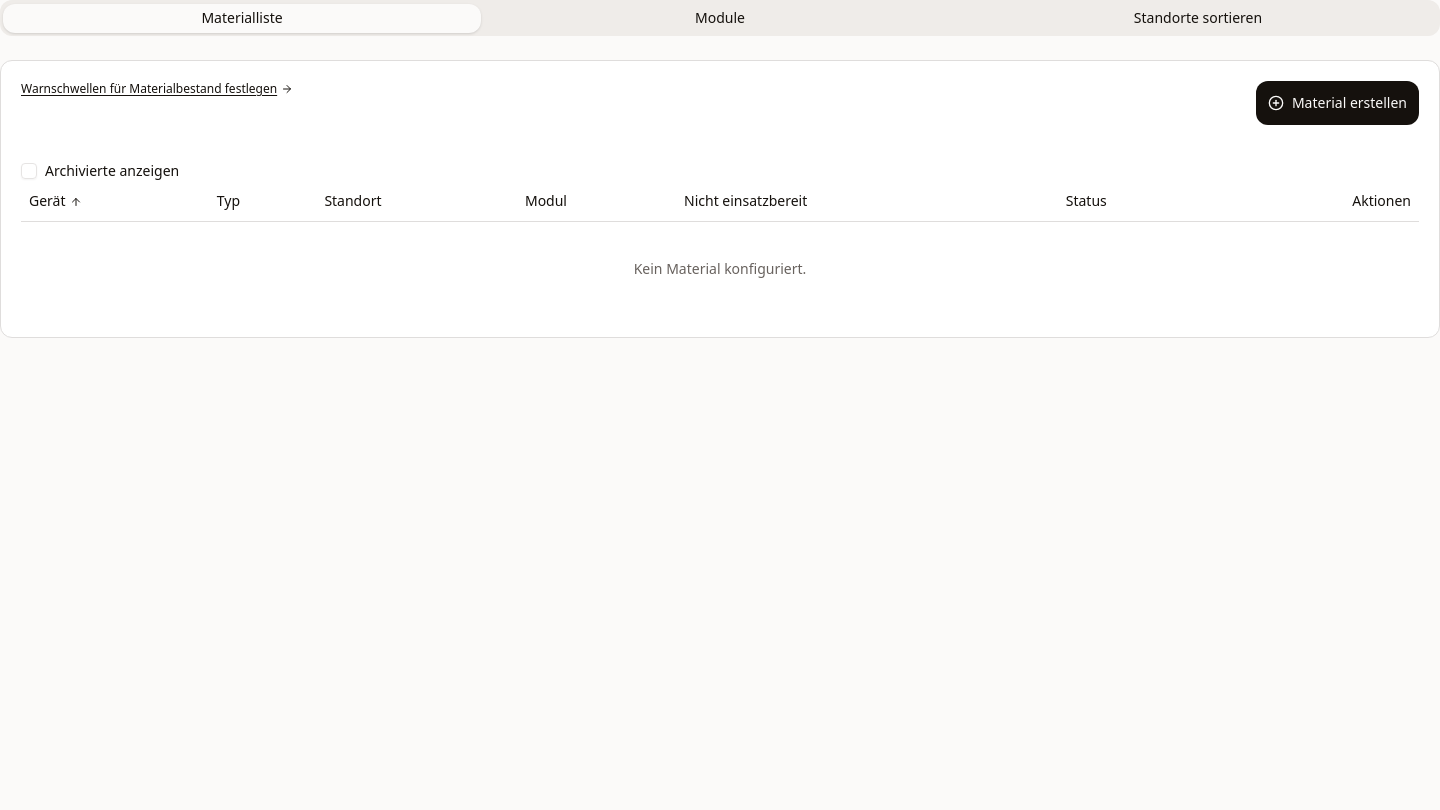
Test: MaterialSettings › warns about unsaved changes when cancelling while dirty
Click the button "Material erstellen" at (1337, 103), box top-left (1256, 81), bottom-right (1419, 125)
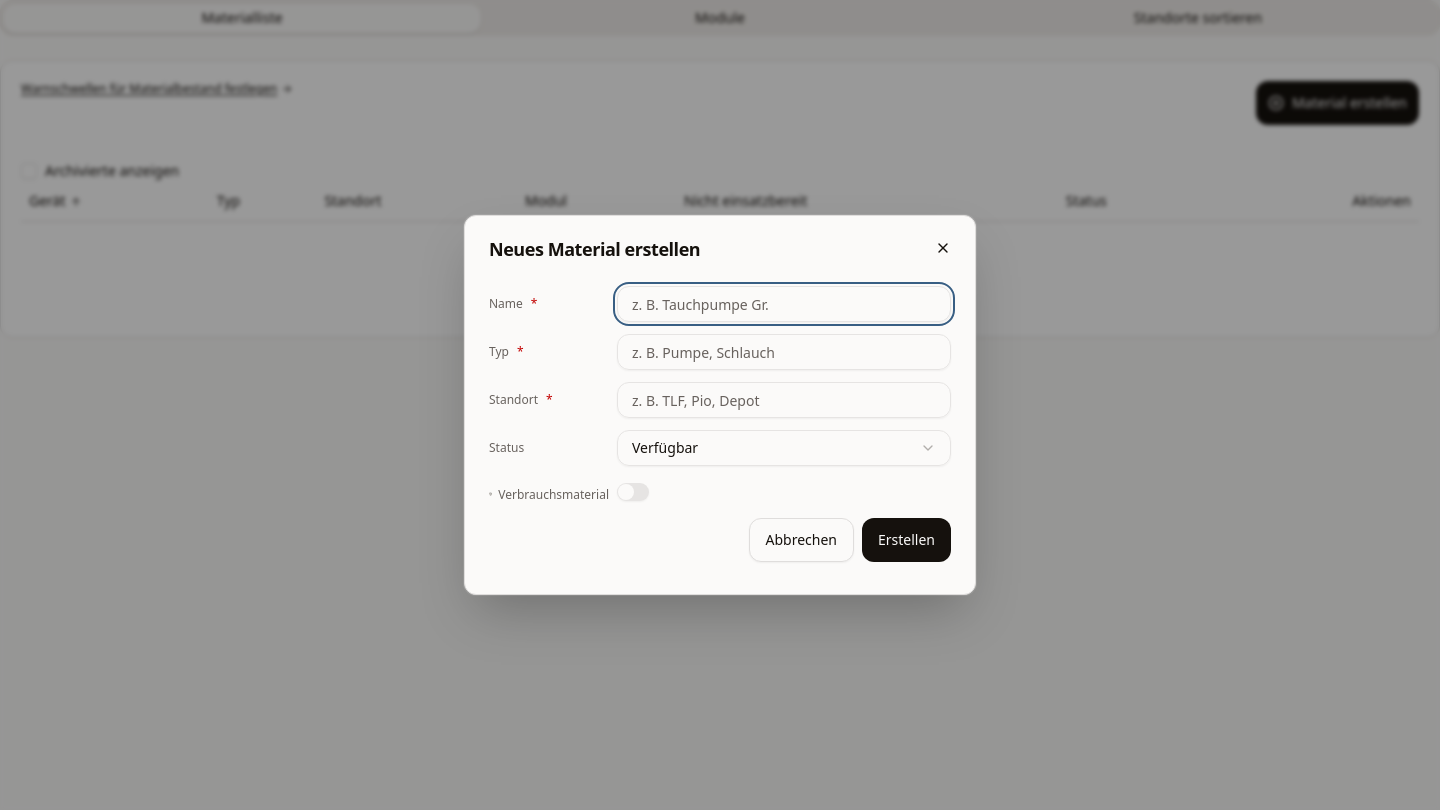
Type "Halffilled" into the field labelled "Name *" at (784, 304), box top-left (617, 286), bottom-right (951, 322)
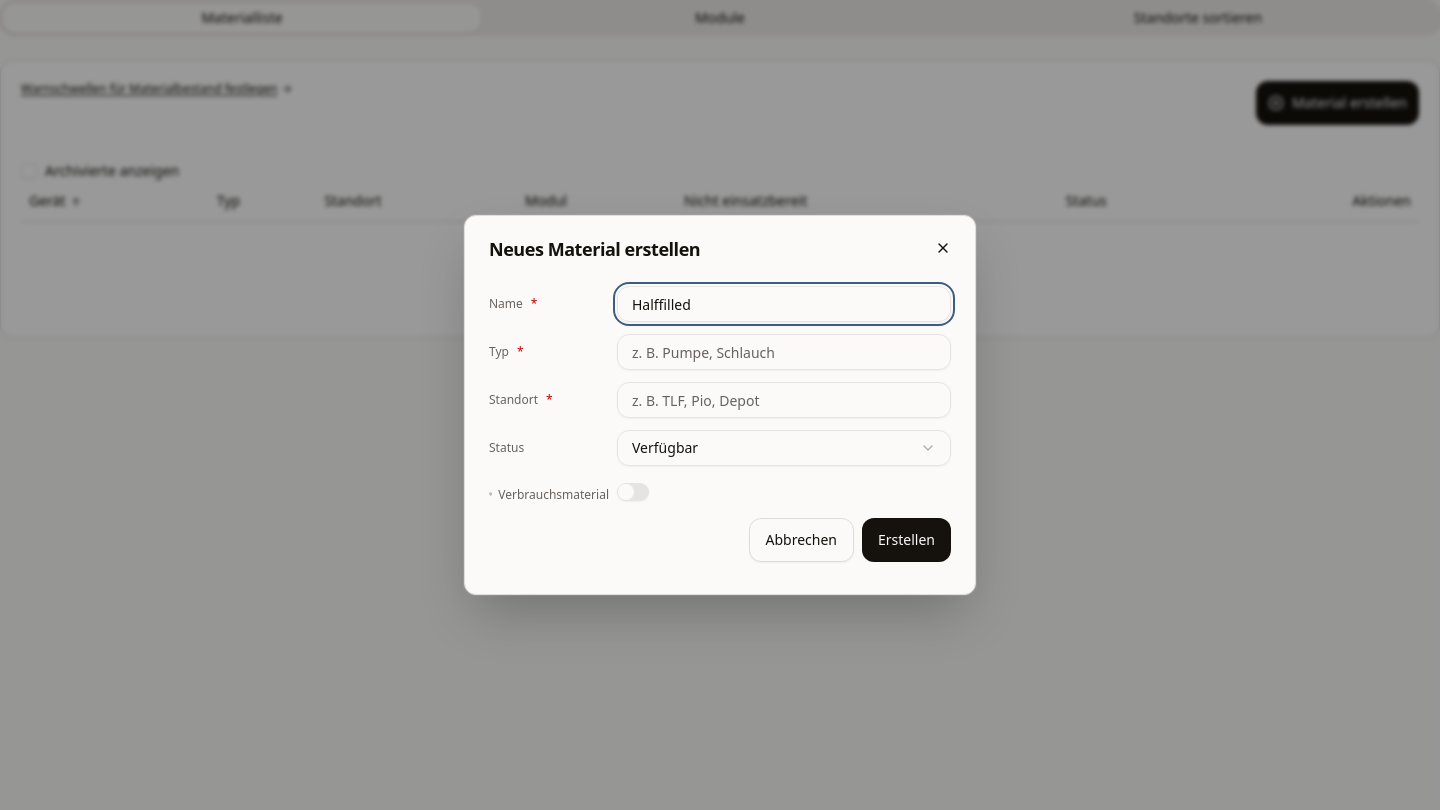
Click the button "Abbrechen" at (801, 540), box top-left (748, 518), bottom-right (854, 562)
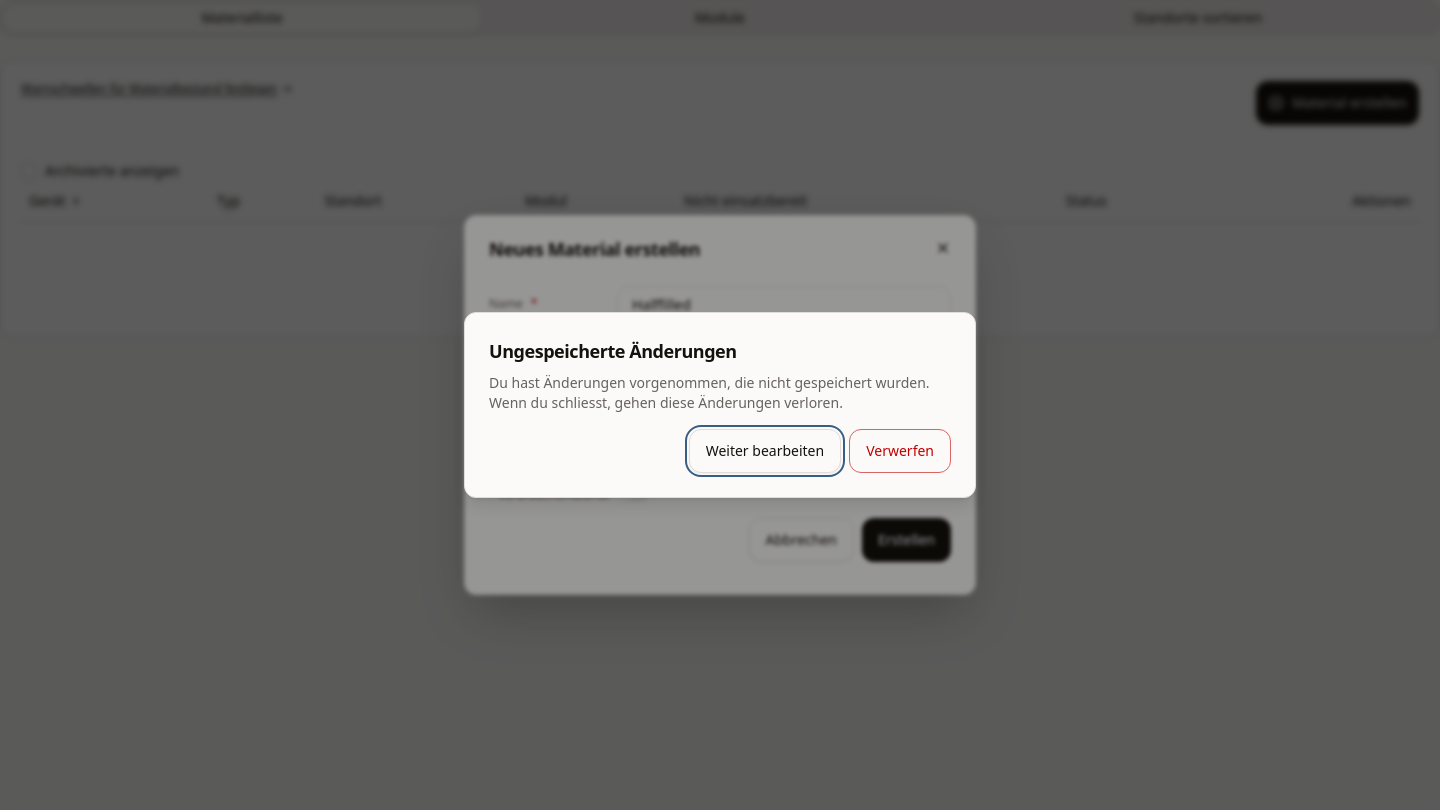
Expected: the heading "Ungespeicherte Änderungen" is shown, top-left (489, 339), bottom-right (737, 363)
